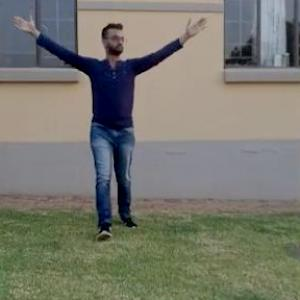takeoff: (0, 0, 223, 252)
